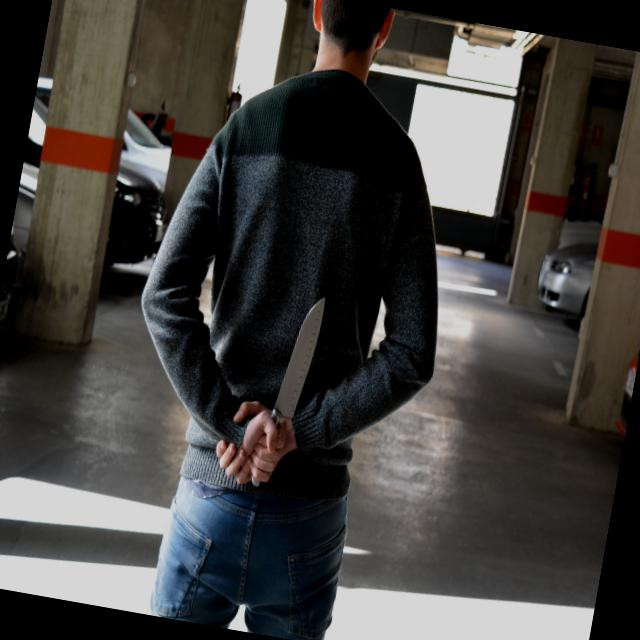knife: (244, 281, 330, 495)
